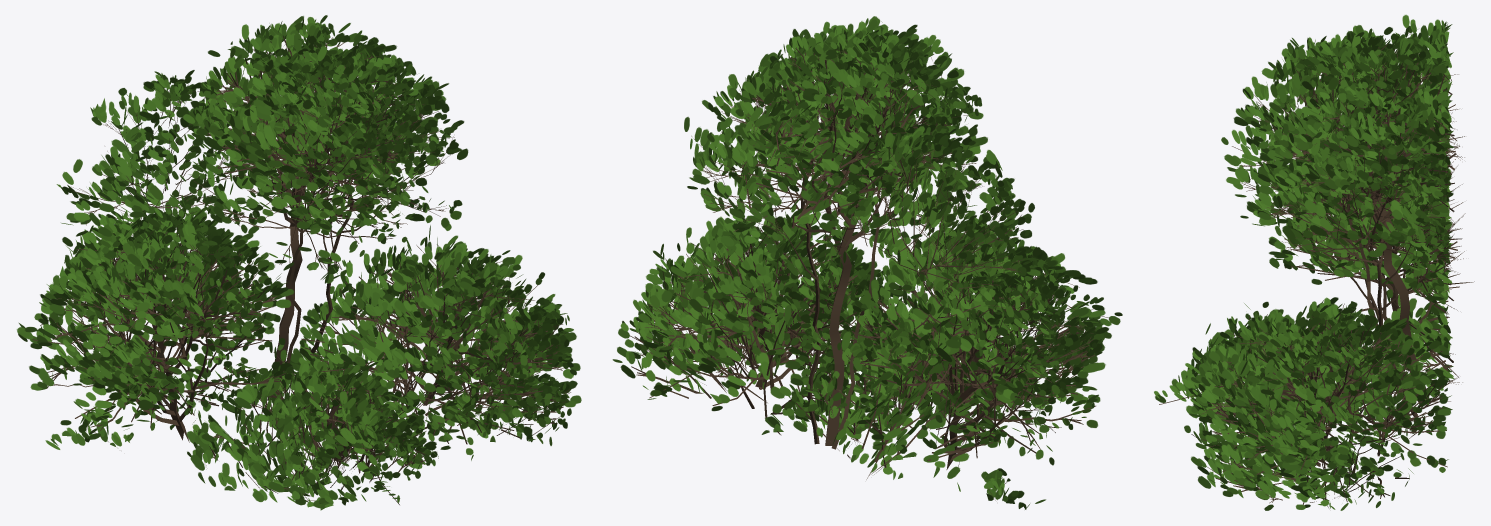
The picture shows the model from 3 angles, left to right: view 1: azimuth 30°, elevation 25°; view 2: azimuth 150°, elevation 25°; view 3: azimuth 270°, elevation 25°; orthographic projection. The views are drawn at different scales.
Visible parts, largest first — view 1: oak 01.001_trunk_Mat.001_0.397; view 2: oak 01.001_trunk_Mat.001_0.397; view 3: oak 01.001_trunk_Mat.001_0.397.
Boxes of the visible parts, <box> form: oak 01.001_trunk_Mat.001_0.397: <box>16,15,581,510</box>; oak 01.001_trunk_Mat.001_0.397: <box>612,16,1122,509</box>; oak 01.001_trunk_Mat.001_0.397: <box>1154,14,1474,510</box>.
Bounding box in the file's own units: 5.85 × 4.77 × 3.51.
2 materials, 1 textured.
